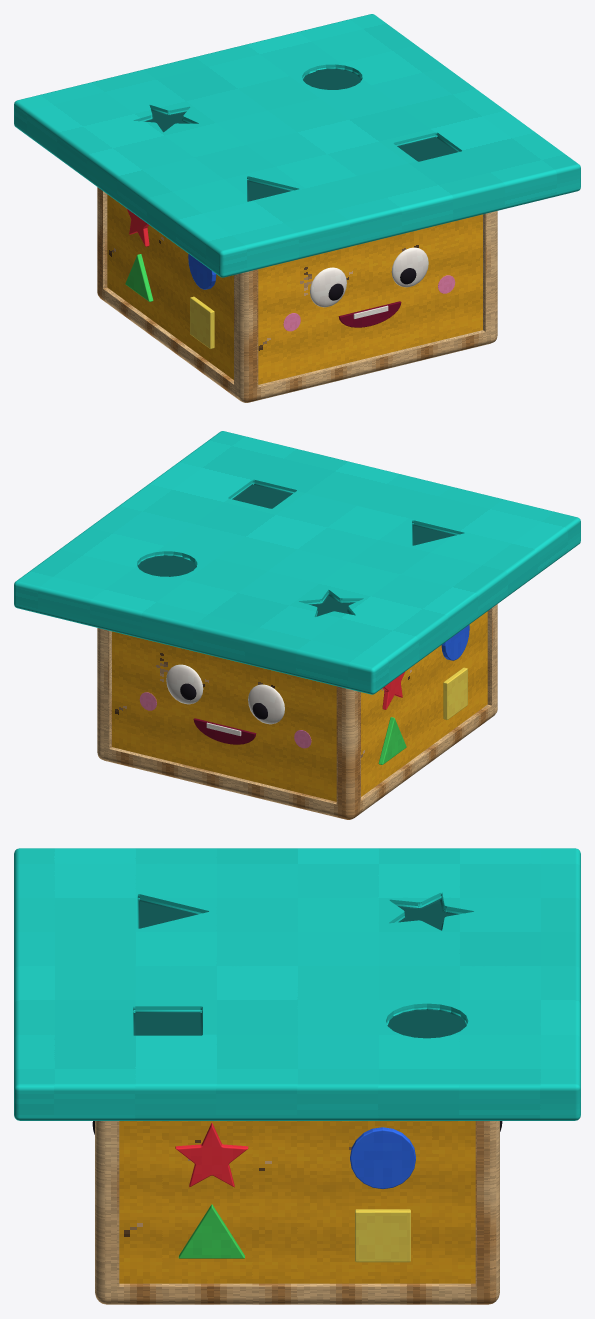
The model's file is p_toysorter.glb.
3 renders of one model, top to bottom at view 1: azimuth 30°, elevation 25°; view 2: azimuth 150°, elevation 25°; view 3: azimuth 270°, elevation 25°, orthographic. The views are drawn at different scales.
Visible parts, largest first — view 1: p_toysorter_lod0; view 2: p_toysorter_lod0; view 3: p_toysorter_lod0.
Boxes of the visible parts, x1=… form: p_toysorter_lod0: x1=14, y1=14, x2=580, y2=402; p_toysorter_lod0: x1=14, y1=431, x2=580, y2=819; p_toysorter_lod0: x1=14, y1=848, x2=580, y2=1304.
Size of what is drawn, in the model's own units: 7 by 3.5 by 7.
1 material, 1 textured.
